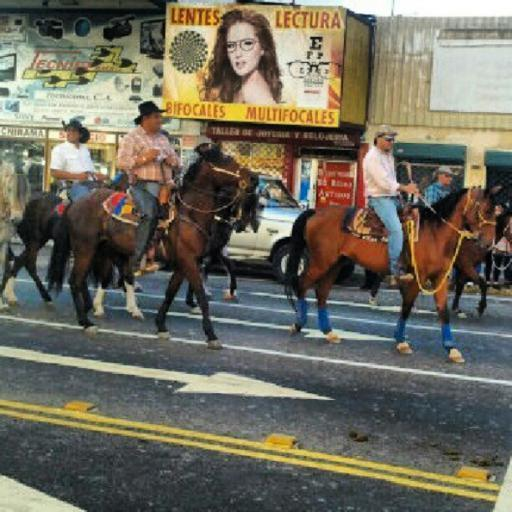horse: (45, 141, 261, 348), (277, 186, 501, 364)
